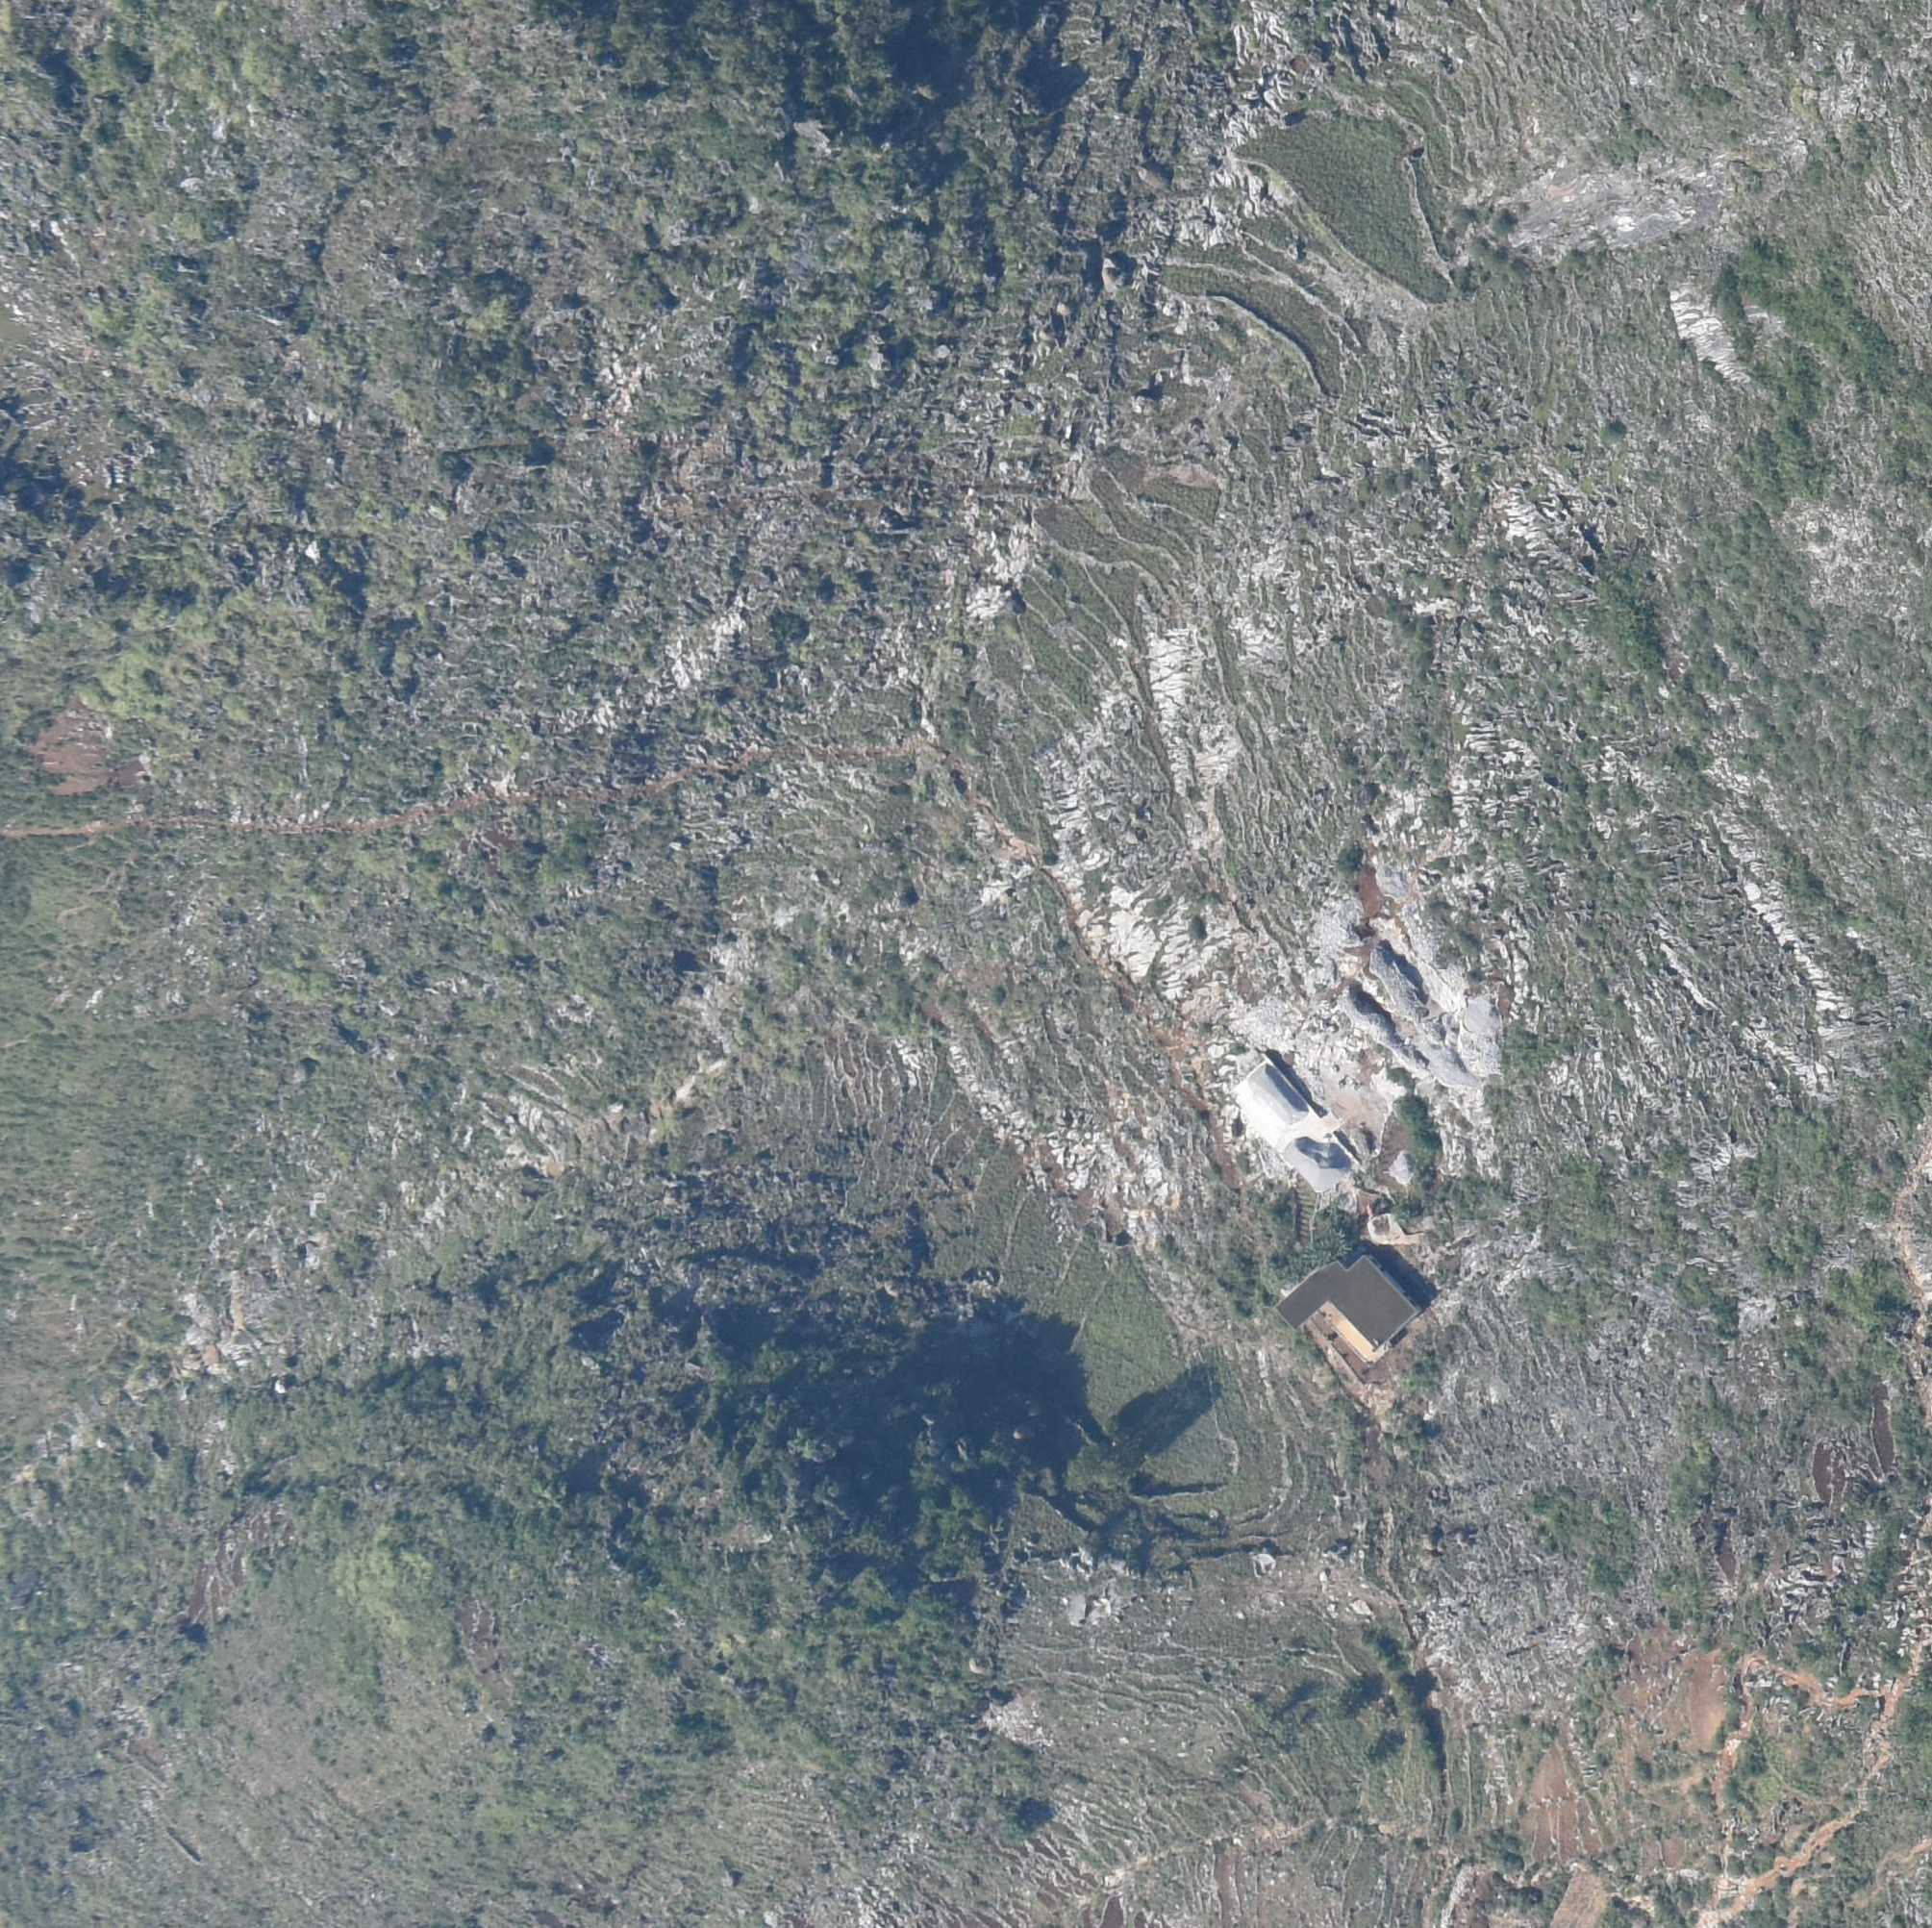building: (1274, 1252, 1418, 1359)
